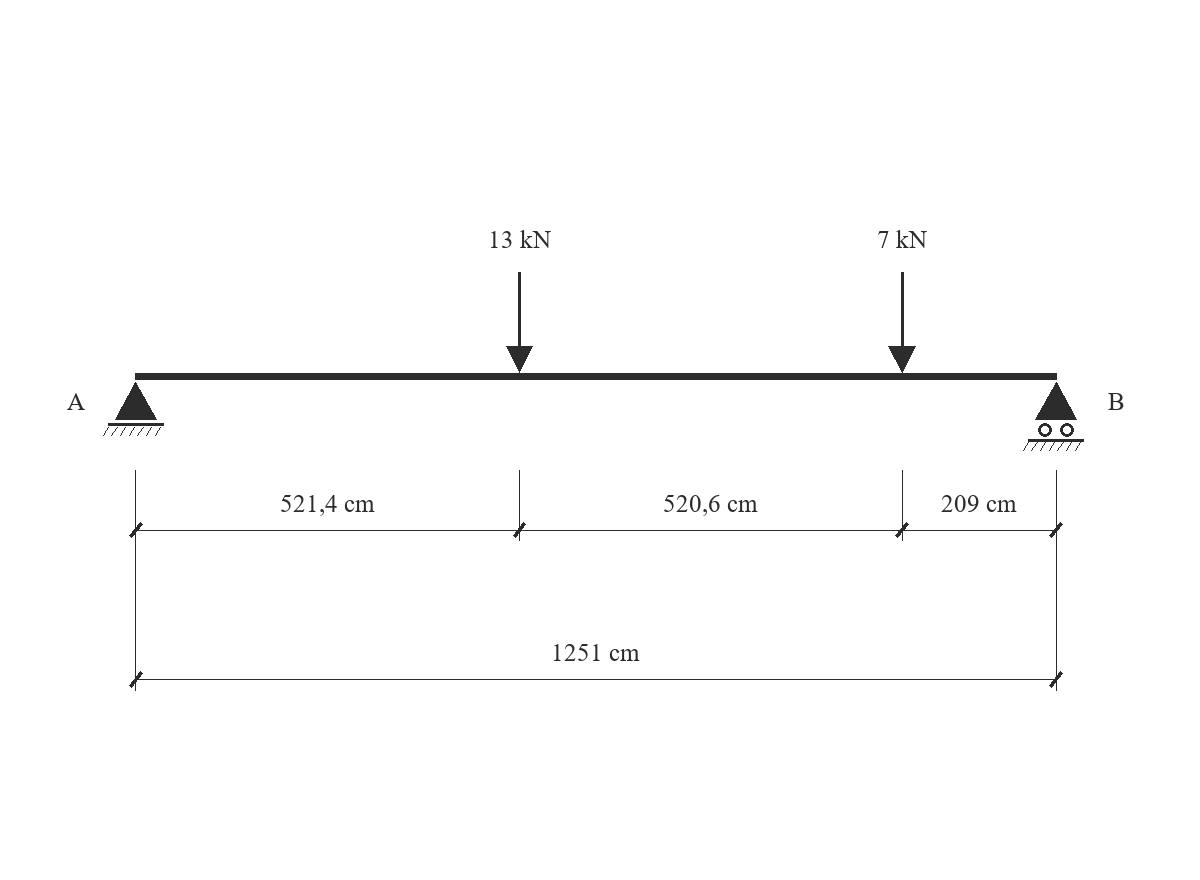pin_support: (103, 382, 164, 436)
point_load: (888, 272, 916, 373), (506, 272, 533, 373)
roller_support: (1023, 382, 1084, 451)
